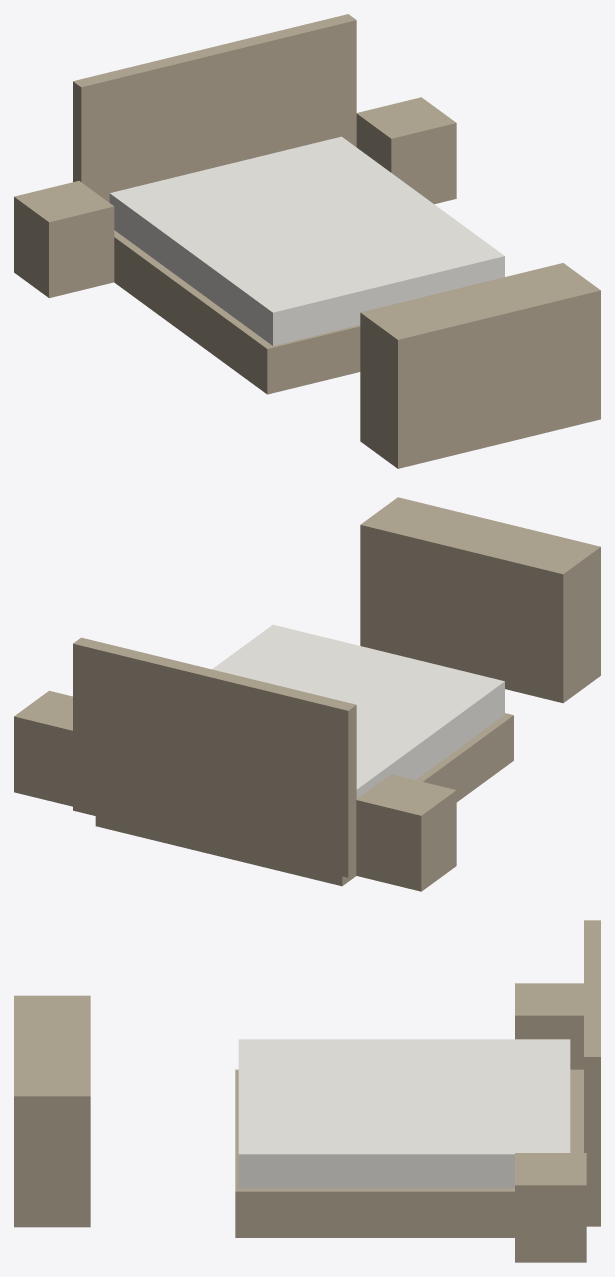
The model's file is recamara-monaco.glb.
The picture shows the model from 3 angles, top to bottom: view 1: azimuth 30°, elevation 25°; view 2: azimuth 150°, elevation 25°; view 3: azimuth 270°, elevation 25°; orthographic projection.
Visible parts, largest first — view 1: recamara-monaco; view 2: recamara-monaco; view 3: recamara-monaco.
Part boxes in pixels (x1,y1,x2,y2): recamara-monaco: (14,14,600,468); recamara-monaco: (14,497,600,891); recamara-monaco: (14,920,600,1262).
Size of the model in its own units: 2.81 by 1.22 by 3.45.
